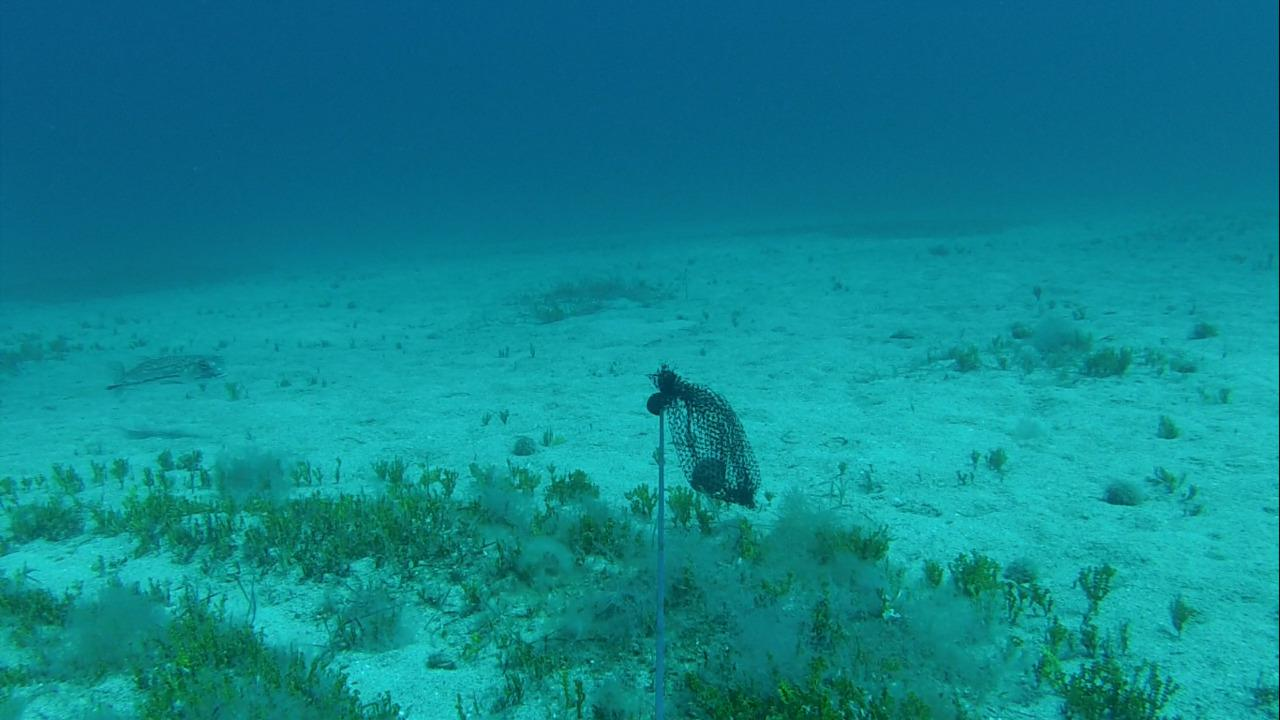dactylopterus: (97, 343, 233, 394)
